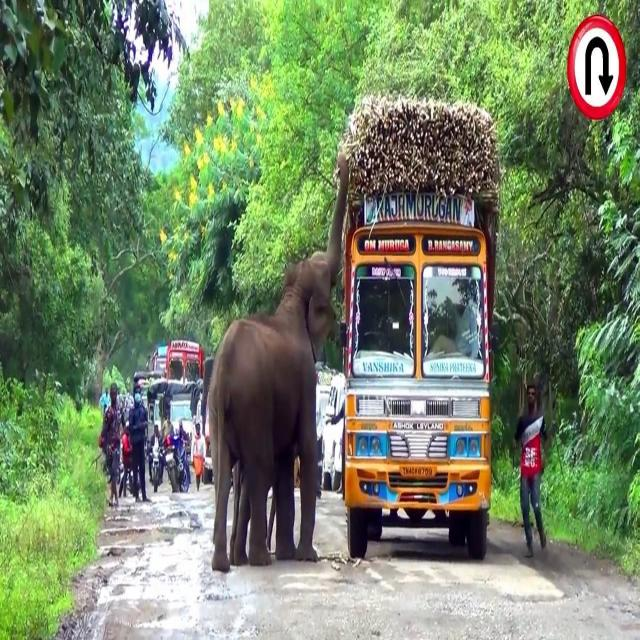Elephant: (207, 152, 350, 573)
